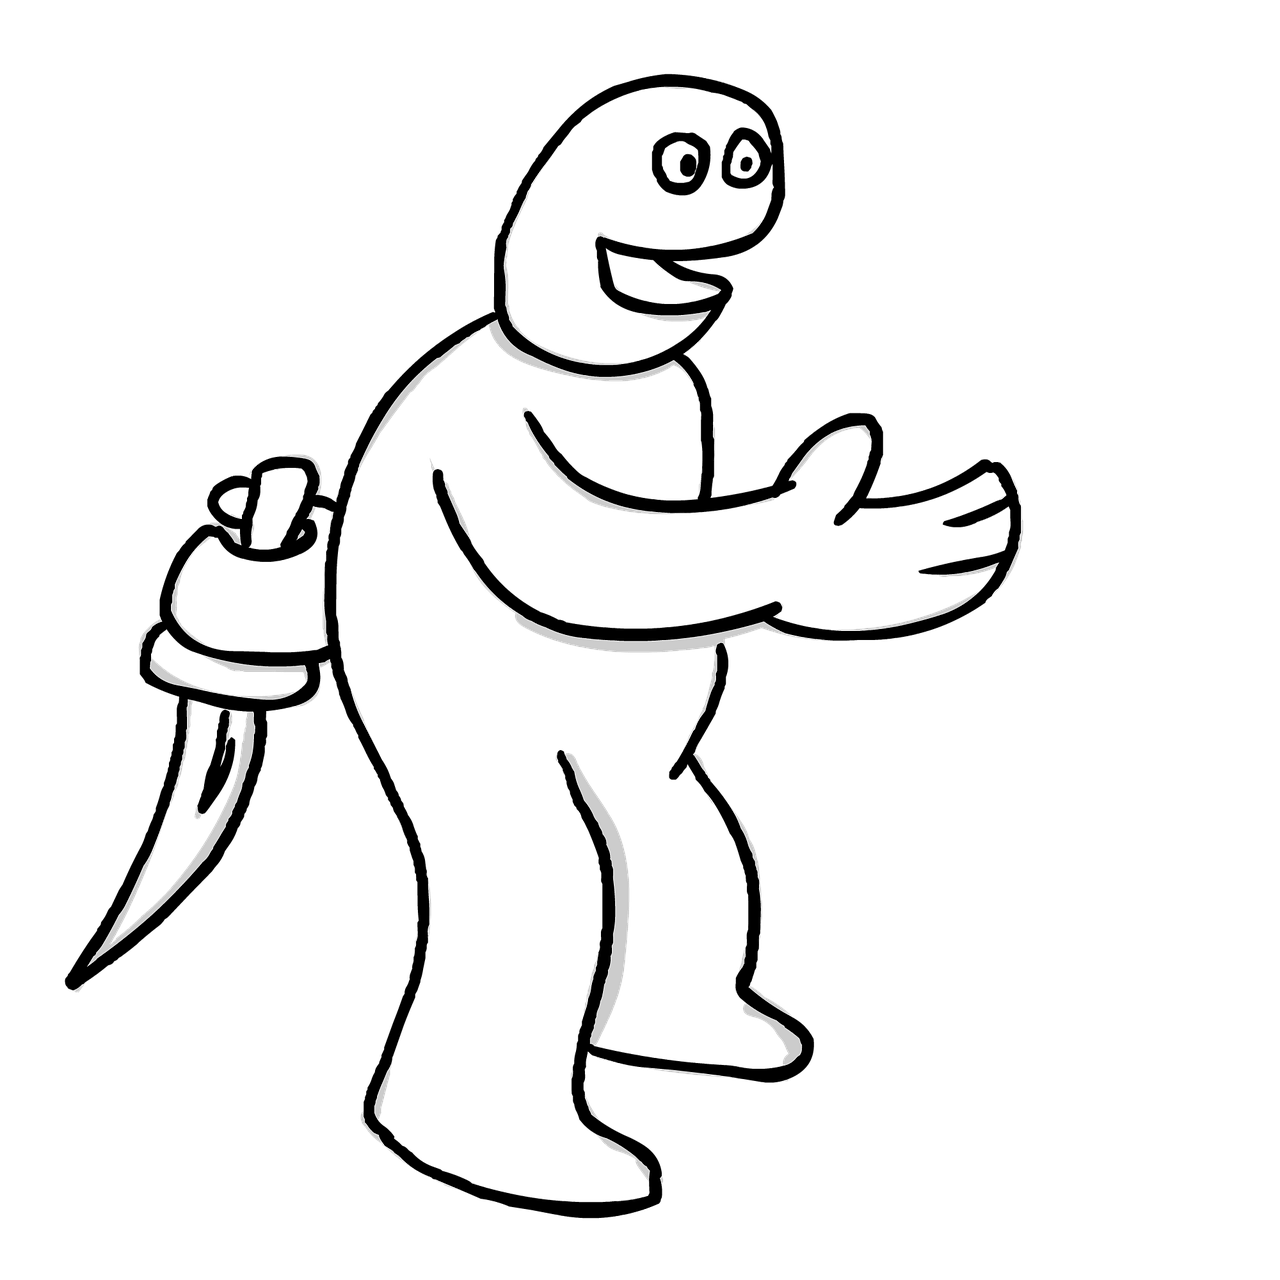knife: (57, 442, 331, 1003)
